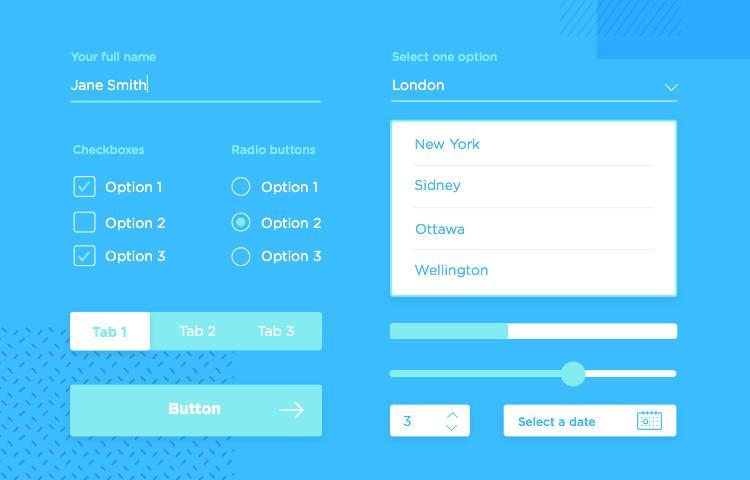button: (69, 384, 325, 439), (503, 405, 680, 440), (72, 312, 151, 352)
checkbox: (74, 245, 98, 268), (74, 176, 97, 198), (76, 213, 96, 234)
label: (64, 48, 159, 69), (388, 50, 500, 66), (230, 143, 317, 156), (262, 214, 323, 232), (261, 179, 319, 196), (263, 249, 324, 265), (73, 144, 146, 157), (105, 217, 168, 231), (106, 182, 163, 195), (106, 250, 167, 262)
radio: (232, 177, 252, 198), (232, 247, 252, 267), (232, 213, 251, 233)
slider: (389, 360, 682, 388), (389, 319, 682, 344)
